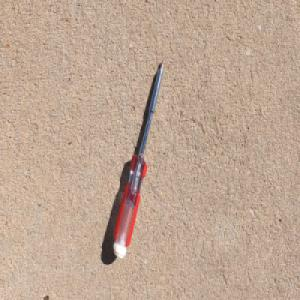Screwdriver: (112, 57, 166, 260)
